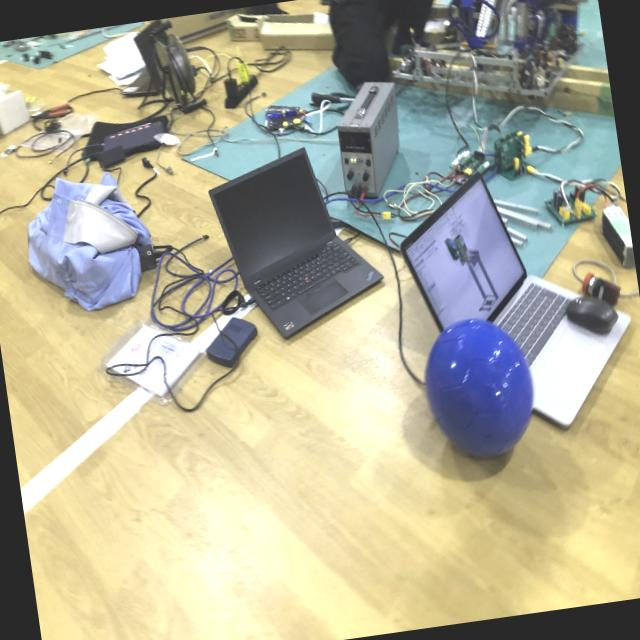blue_ball: (416, 310, 542, 466)
